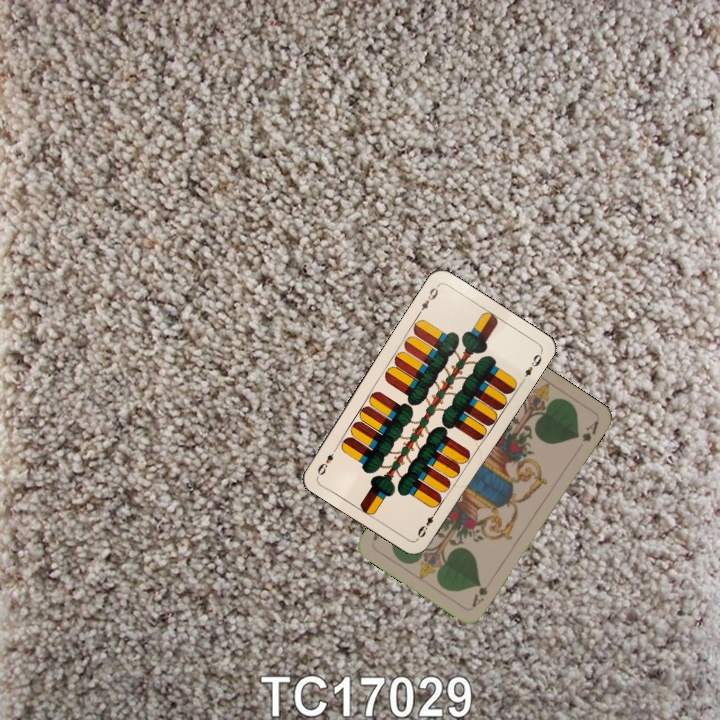E9: (414, 282, 441, 318), (413, 505, 440, 540)
GA: (468, 574, 496, 610)
